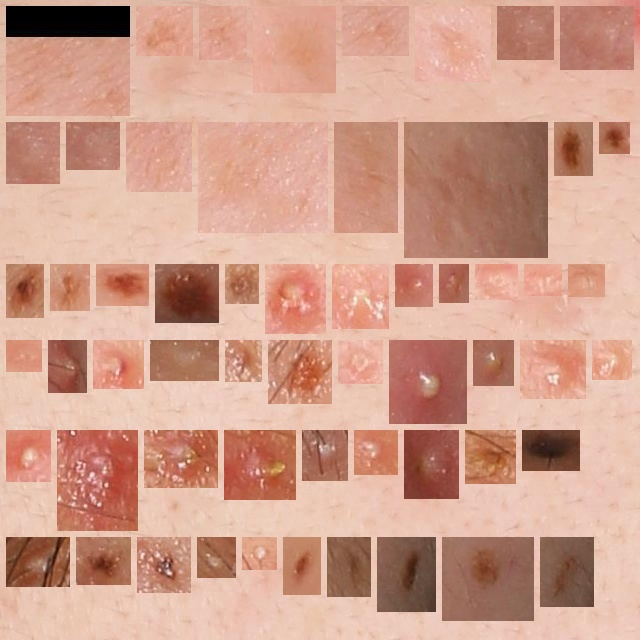hypertrophic_scar: (568, 14, 626, 62), (14, 130, 52, 176), (505, 14, 546, 52), (158, 348, 211, 373), (74, 130, 112, 162)
melasma: (412, 130, 540, 250), (206, 130, 320, 225), (14, 14, 122, 108), (261, 14, 328, 85), (342, 130, 390, 225), (423, 14, 483, 74), (134, 130, 184, 184), (350, 14, 401, 48), (144, 14, 185, 48), (207, 14, 239, 52)
nevus: (450, 545, 526, 613), (385, 545, 428, 604), (276, 348, 324, 396), (163, 272, 211, 315), (548, 545, 586, 599), (145, 545, 183, 585), (473, 438, 508, 476), (84, 545, 123, 577), (335, 545, 363, 589), (530, 438, 572, 463), (104, 272, 141, 298), (291, 545, 313, 587), (562, 130, 585, 168), (14, 272, 36, 310), (58, 272, 82, 303), (233, 348, 254, 374), (233, 272, 251, 296), (607, 130, 622, 146)
pustule: (65, 438, 130, 523), (397, 348, 459, 416), (232, 438, 288, 492), (152, 438, 210, 480), (273, 272, 318, 326), (528, 348, 578, 391), (412, 438, 451, 491), (340, 272, 381, 321), (14, 545, 62, 579), (101, 348, 136, 381), (310, 438, 340, 473), (14, 438, 43, 474), (56, 348, 79, 385), (346, 348, 375, 376), (362, 438, 390, 467), (481, 348, 506, 378), (403, 272, 425, 299), (600, 348, 624, 372), (205, 545, 228, 570), (483, 272, 510, 292), (576, 272, 597, 289), (532, 272, 554, 288), (250, 545, 269, 562), (447, 272, 461, 295), (14, 348, 34, 364)
